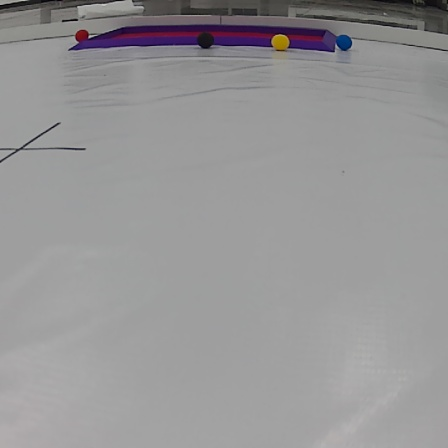black: (199, 32, 213, 49)
blue: (338, 34, 353, 50)
red: (76, 28, 89, 44)
red_aim: (67, 23, 342, 51)
yellow: (272, 34, 291, 49)
